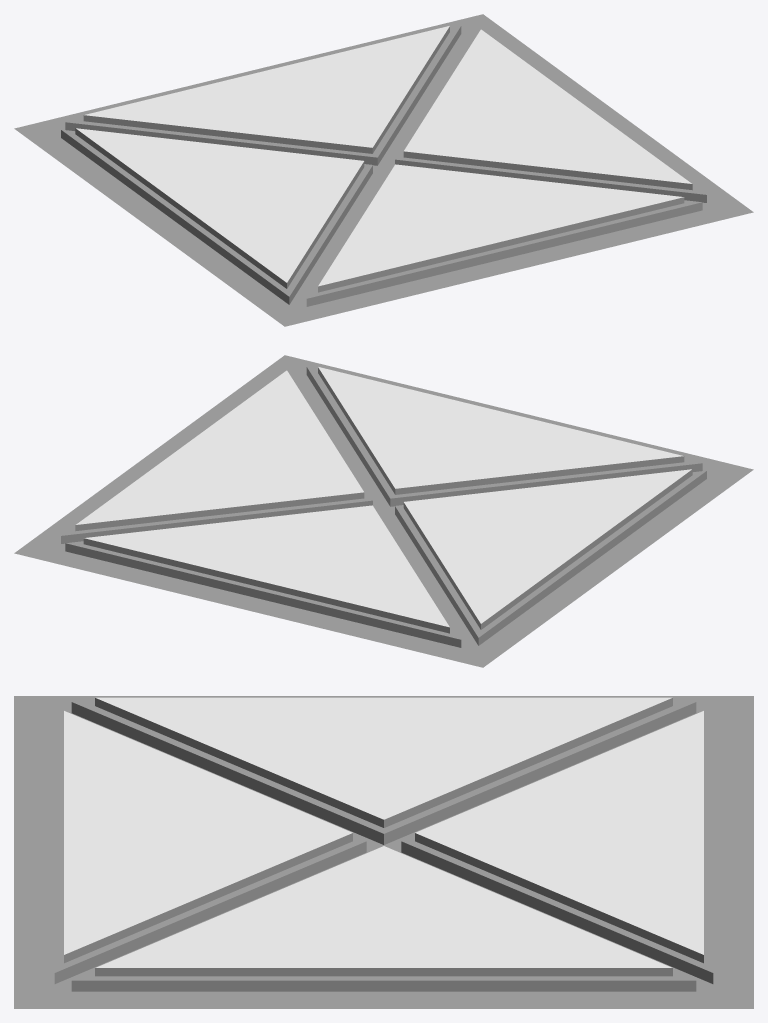
Rendered from En_R_ceilingLight.fbx.
The picture shows the model from 3 angles, top to bottom: view 1: azimuth 30°, elevation 25°; view 2: azimuth 150°, elevation 25°; view 3: azimuth 270°, elevation 25°; orthographic projection. The views are drawn at different scales.
Parts seen in each view (by area): view 1: En_R_ceilingLight; view 2: En_R_ceilingLight; view 3: En_R_ceilingLight.
Part boxes in pixels (bbox=[...]): En_R_ceilingLight: bbox=[14, 14, 753, 326]; En_R_ceilingLight: bbox=[14, 355, 753, 667]; En_R_ceilingLight: bbox=[14, 696, 753, 1008].
Bounding box in the file's own units: 400 × 11.7 × 400.
2 materials, 1 textured.
